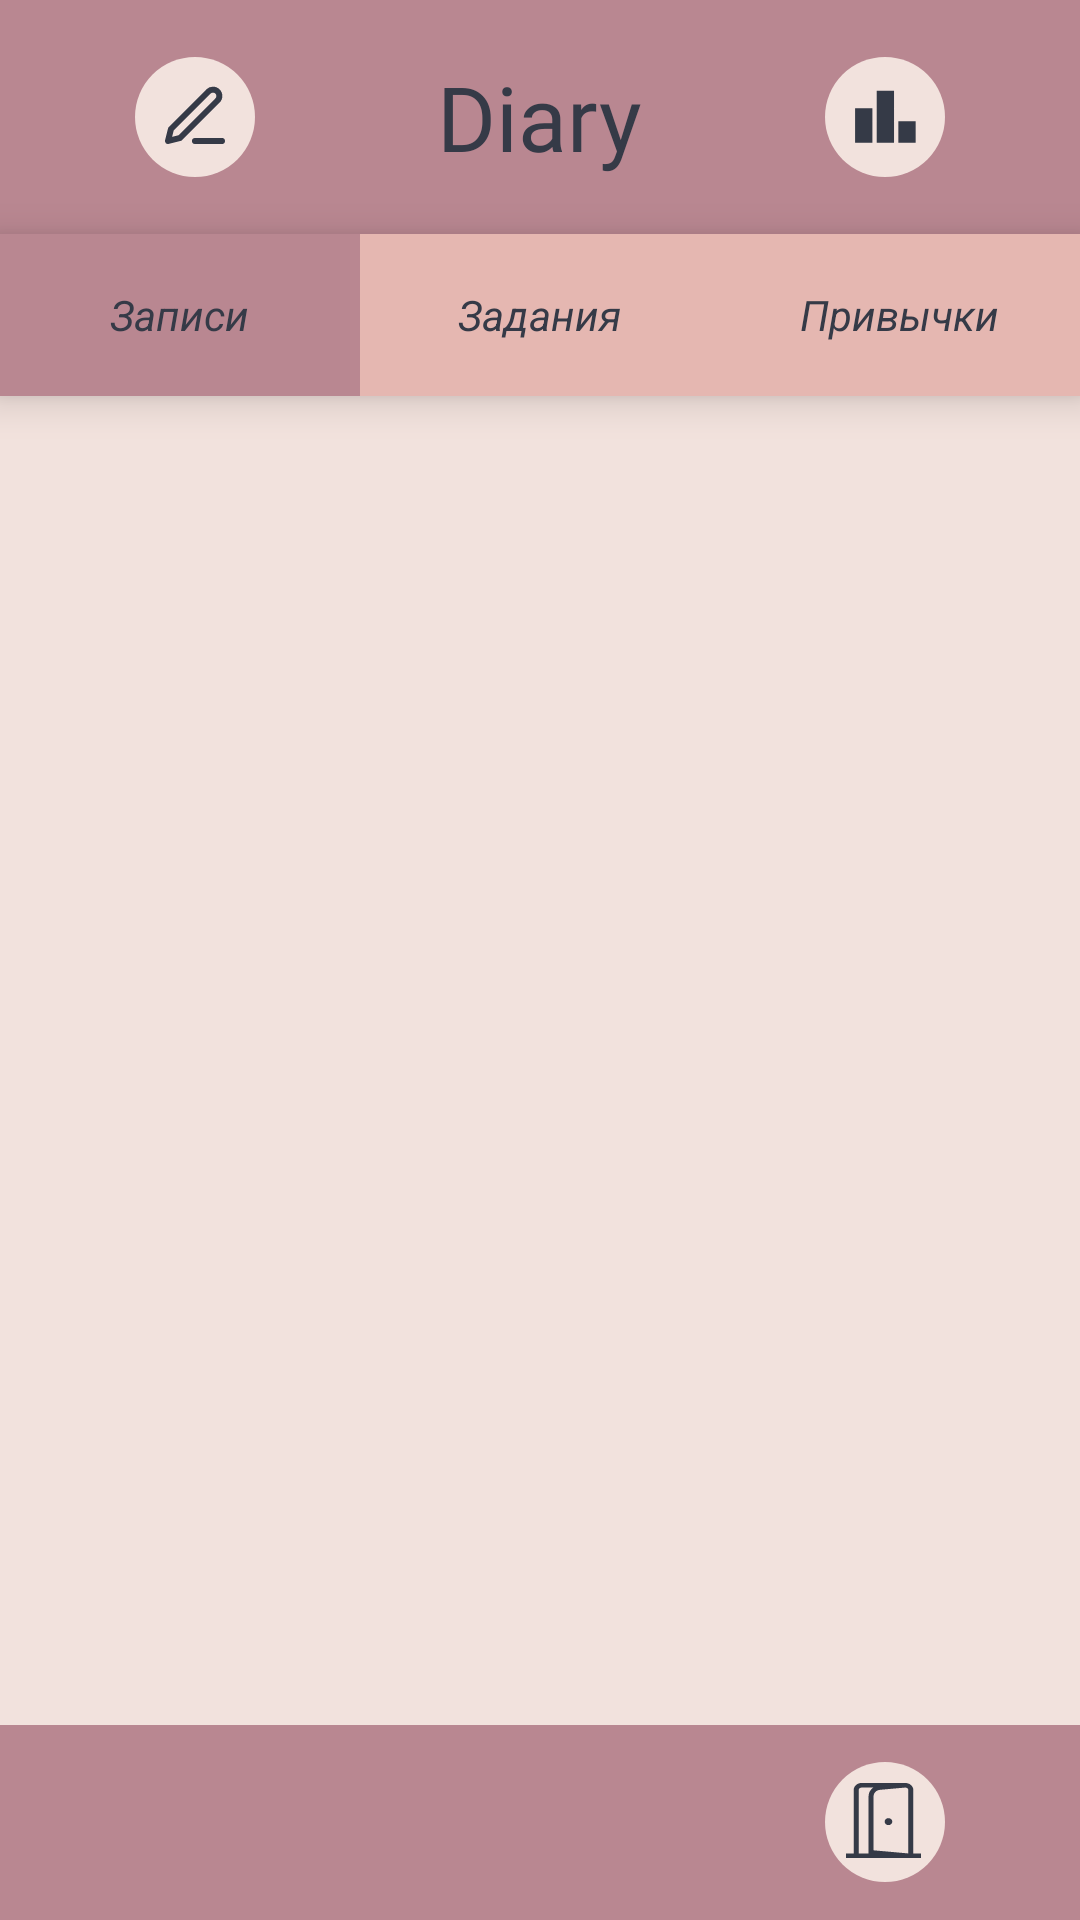

Named icons in this screenshot (1080px×1920px) and their bounding boxes, bbox=[x1, y1, x2, y2]:
exit: bbox=[825, 1762, 945, 1882]
statistic: bbox=[825, 57, 945, 177]
text: bbox=[135, 57, 255, 177]
